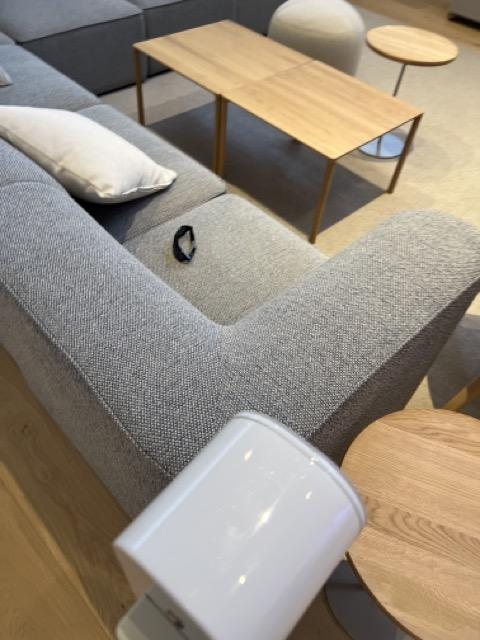Sunglasses: (173, 223, 197, 266)
